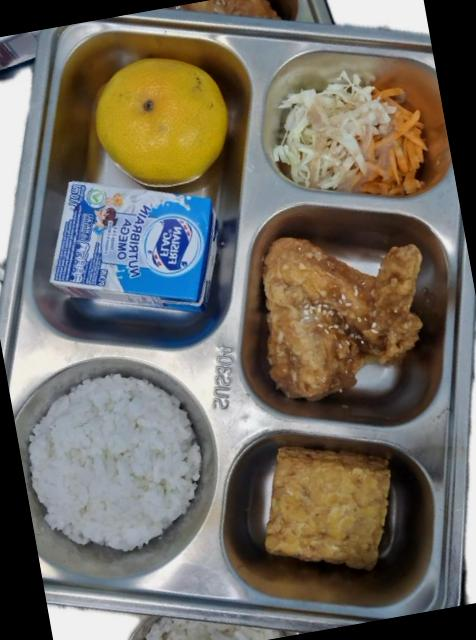ayam: (262, 238, 422, 401)
buah: (95, 58, 227, 187)
nasi: (28, 375, 200, 551)
sayur: (272, 71, 427, 196), (330, 113, 431, 189)
tempe: (265, 447, 390, 570)
